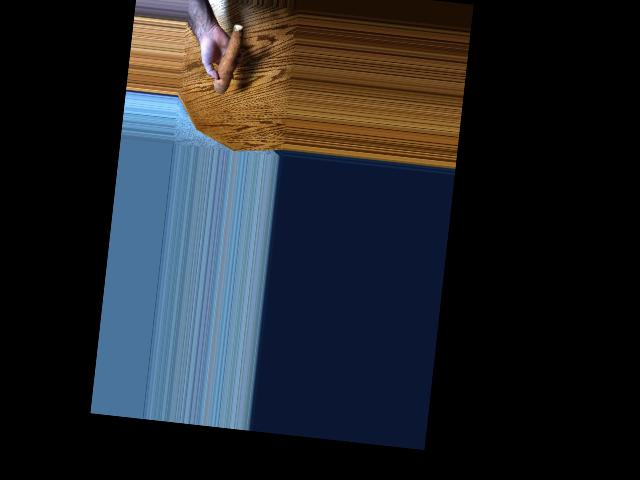sweet_potato: (215, 25, 244, 99)
